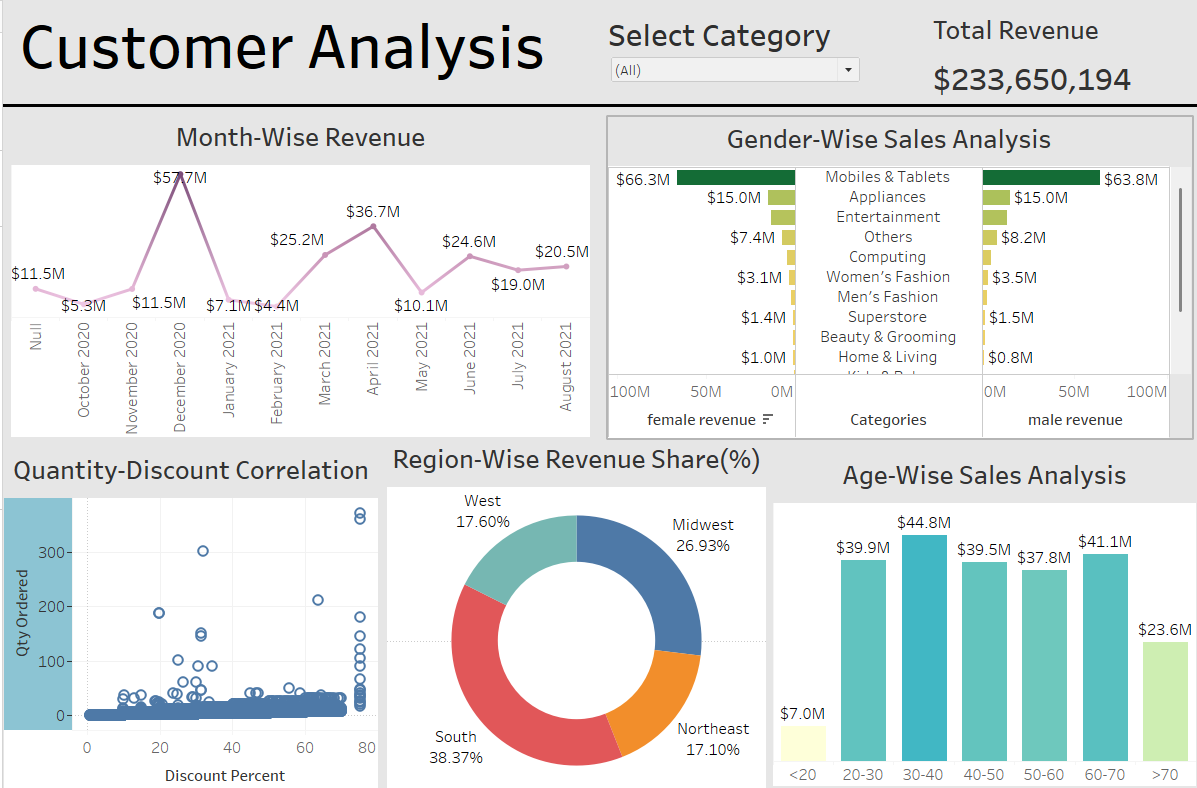

What the dashboard file says about the page in this screenshot:
{"tool":"tableau","page":{"name":"Dashboard 1","canvas":[1200,800],"ordinal":0},"visuals":[{"type":"text","box":[13,8,553,72]},{"type":"worksheet","title":"Total Revenue","mark":"Automatic","box":[926,8,225,108]},{"type":"filter","title":"Gender-Wise Sales Analysis","param":"[federated.0l0f45g1uory6316ret6m128ewu0].[none:category:nk]","box":[605,13,255,71]},{"type":"worksheet","title":"Month-Wise Revenue","mark":"Automatic","rows":["total"],"cols":["month"],"box":[8,115,579,322]},{"type":"worksheet","title":"Gender-Wise Sales Analysis","mark":"Automatic","rows":["category"],"cols":["Calculation_669347512903241729","Calculation_669347512902168576","Calculation_669347512903651330"],"box":[605,117,584,321]},{"type":"worksheet","title":"Region-Wise Revenue Share(%)","mark":"Pie","rows":["Calculation_669347512902168576","Calculation_669347512902168576"],"box":[384,437,379,357]},{"type":"worksheet","title":"Quantity-Discount Correlation","mark":"Automatic","rows":["qty_ordered"],"cols":["Discount_Percent"],"box":[1,448,374,345]},{"type":"worksheet","title":"Age-Wise Sales Analysis","mark":"Automatic","rows":["total"],"cols":["Age (bin)"],"box":[770,453,423,333]}]}

Visuals, with their boxes in screenshot pixels (x1, y1, x2, y2), scaled from the page's 1200x800 canvas onto the 1197x788 screenshot:
text: <bbox>13, 8, 565, 79</bbox>
"Total Revenue" worksheet: <bbox>924, 8, 1148, 114</bbox>
"Gender-Wise Sales Analysis" filter: <bbox>603, 13, 858, 83</bbox>
"Month-Wise Revenue" worksheet: <bbox>8, 113, 586, 430</bbox>
"Gender-Wise Sales Analysis" worksheet: <bbox>603, 115, 1186, 431</bbox>
"Region-Wise Revenue Share(%)" worksheet (Pie marks): <bbox>383, 430, 761, 782</bbox>
"Quantity-Discount Correlation" worksheet: <bbox>1, 441, 374, 781</bbox>
"Age-Wise Sales Analysis" worksheet: <bbox>768, 446, 1190, 774</bbox>
